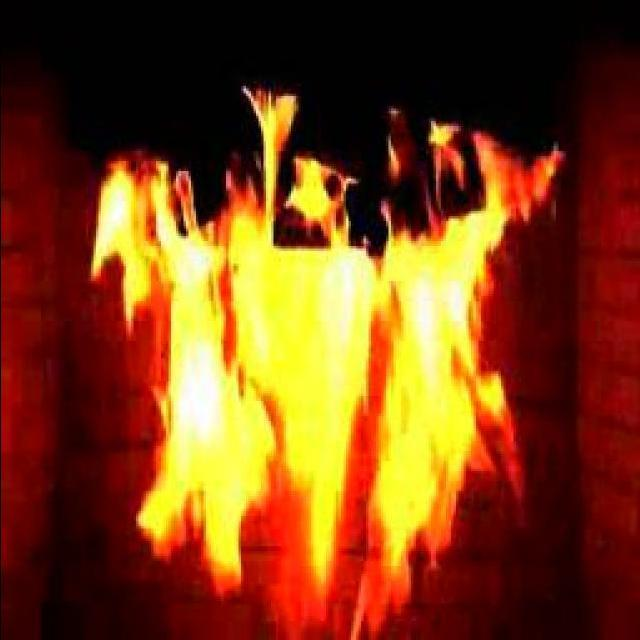Fire: (99, 154, 512, 576)
